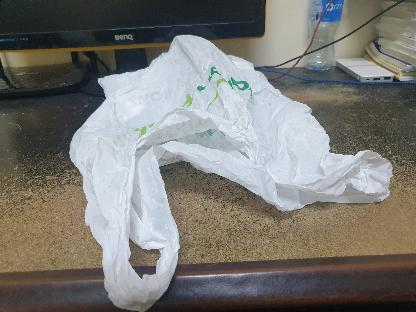Plastic Bag: (65, 35, 395, 312)
